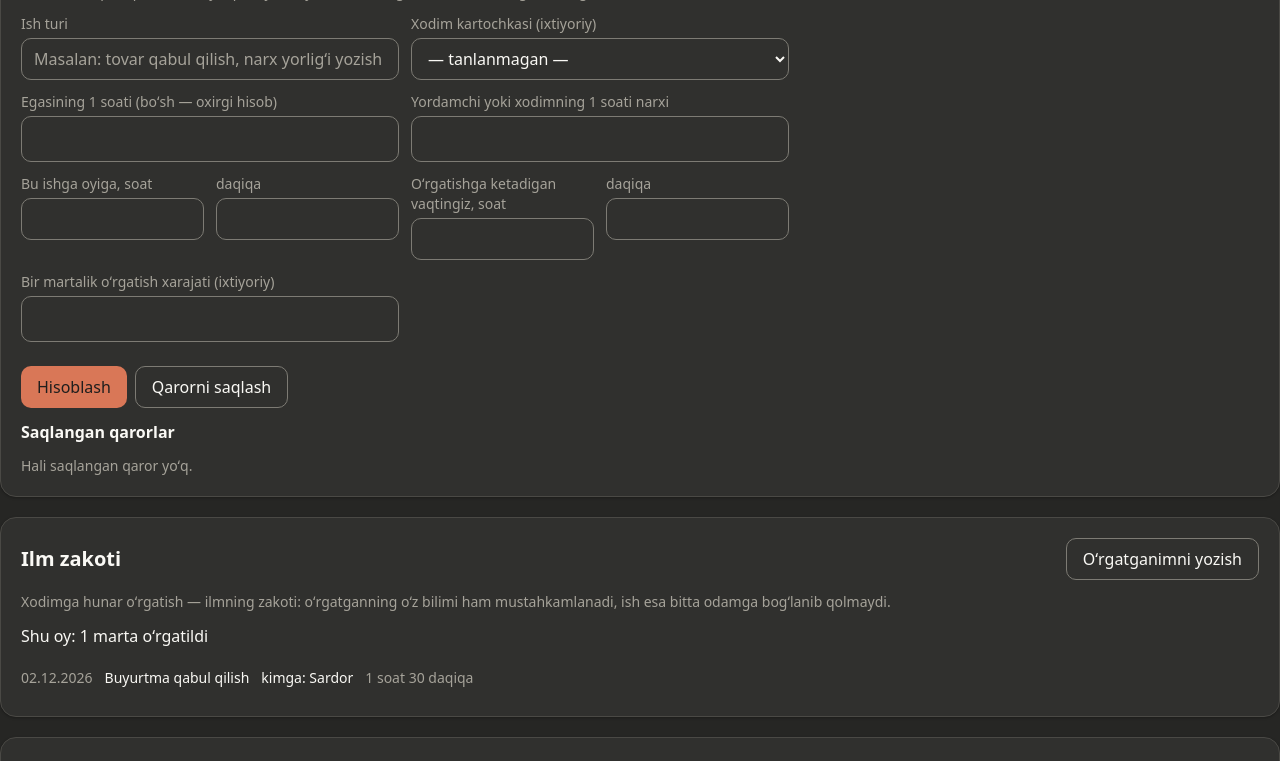
Kasb-kor: Oʻzimga sarmoya (K9) › soat qiymati yo'q: yadro xatosi ko'rsatiladi
(page scrolled)
Click the button "Hisoblash" at [74, 387], box 21,366 -> 127,408
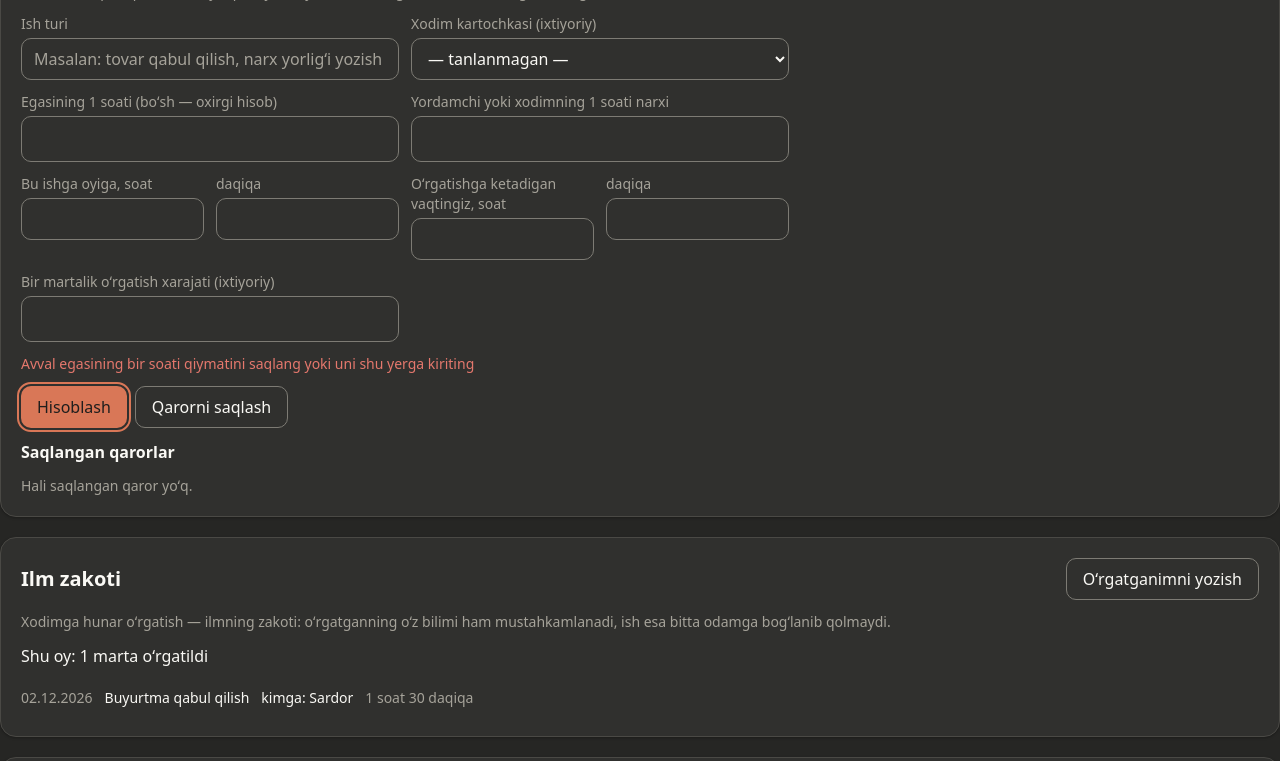
Now the message shows "egasining bir soati", box 21,354 -> 474,373
